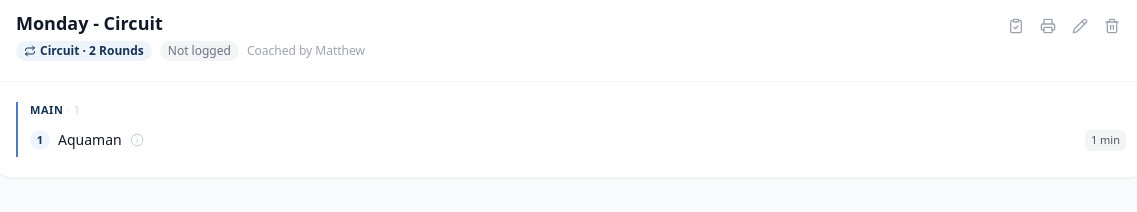
Test: WorkoutTemplateCard — exercise descriptions (SB-525) › is honest when an exercise has no description yet
The image size is (1137, 212).
Click the button with test id "describe-aquaman" at (87, 140), box 30,126 -> 144,154
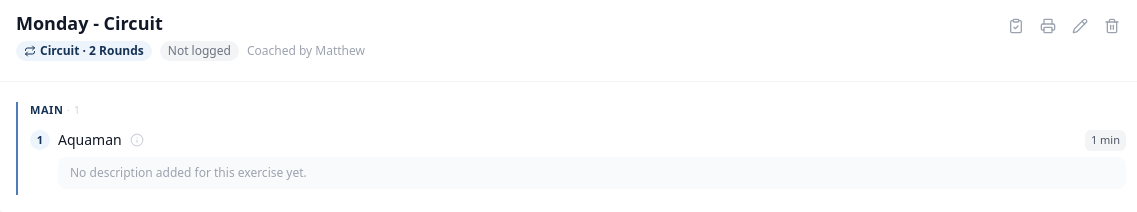
Expected: the element with test id "exercise-description" shows "No description added", 70,164 -> 307,180
